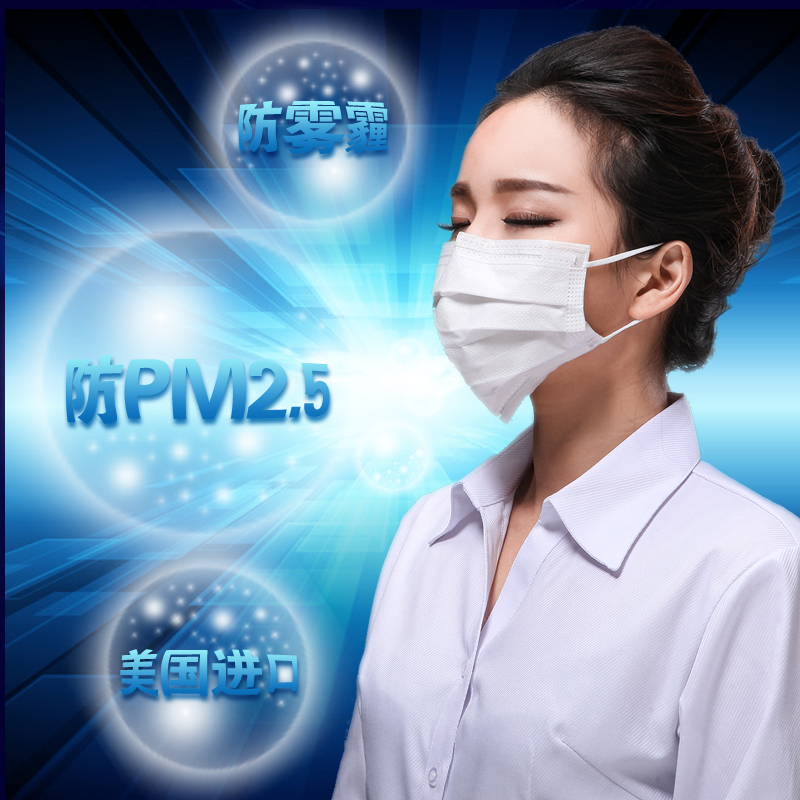face_mask: (433, 102, 627, 400)
